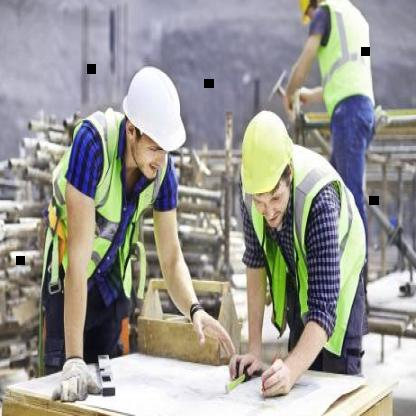helmet: (118, 64, 189, 156), (237, 100, 297, 207)
